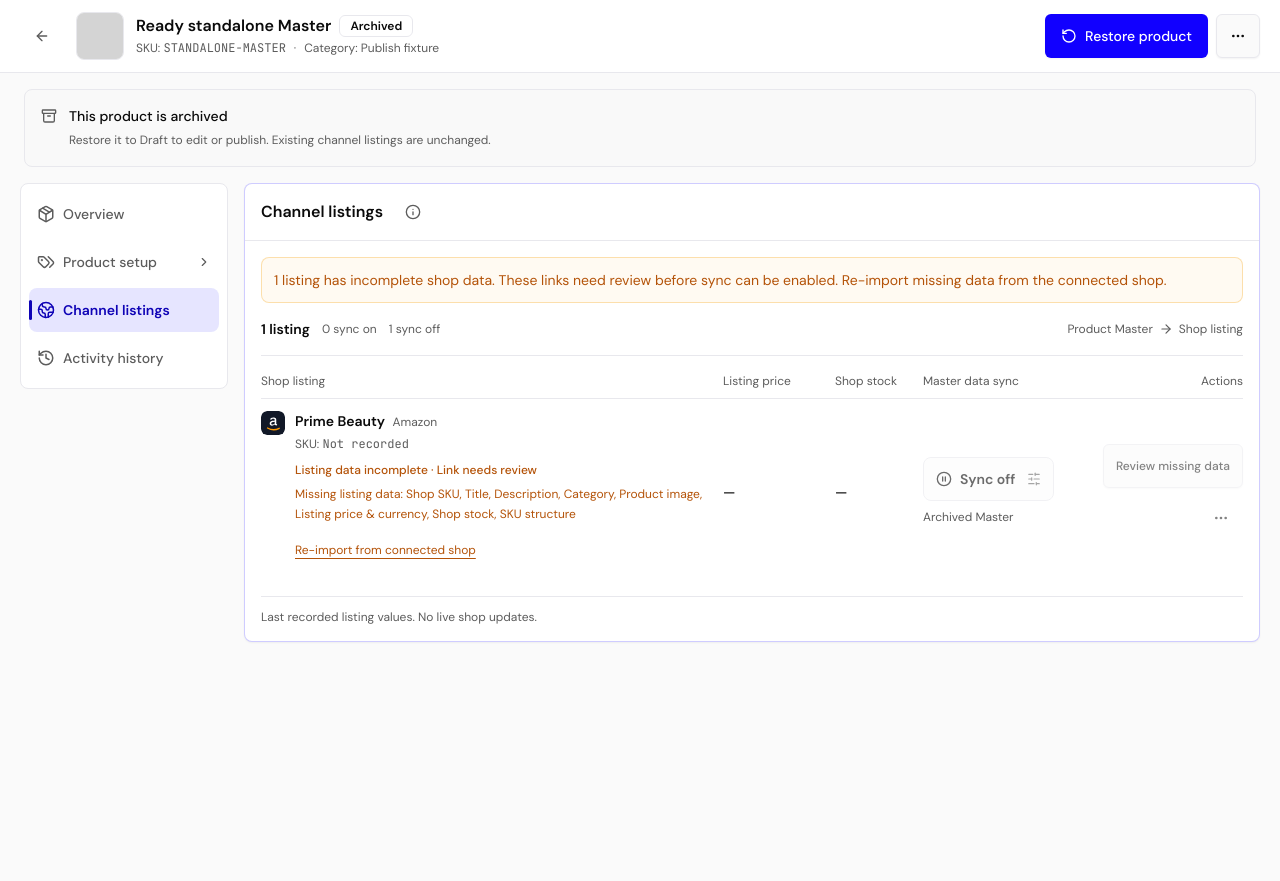
Test: Publishing Product Master without channel listings › allows read-only sales exploration for an archived Master without enabling editing
This screenshot has width=1280, height=881.
Click the button "Overview": point(124, 214) [29,192,219,236]
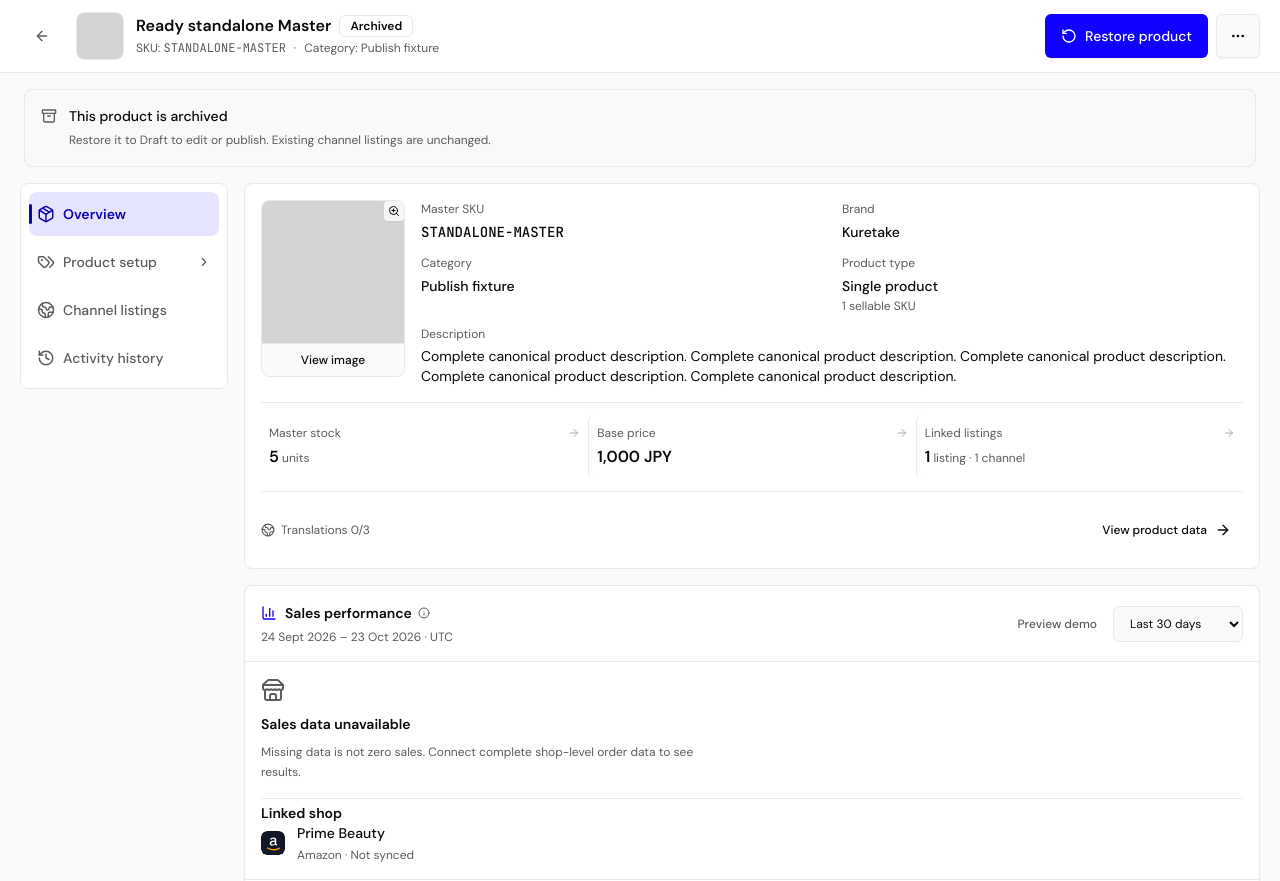
Now the dropdown named "Sales period" is enabled, box [1113,606,1243,642]
Click the button "Preview demo": point(1057, 624) [1006,606,1109,642]
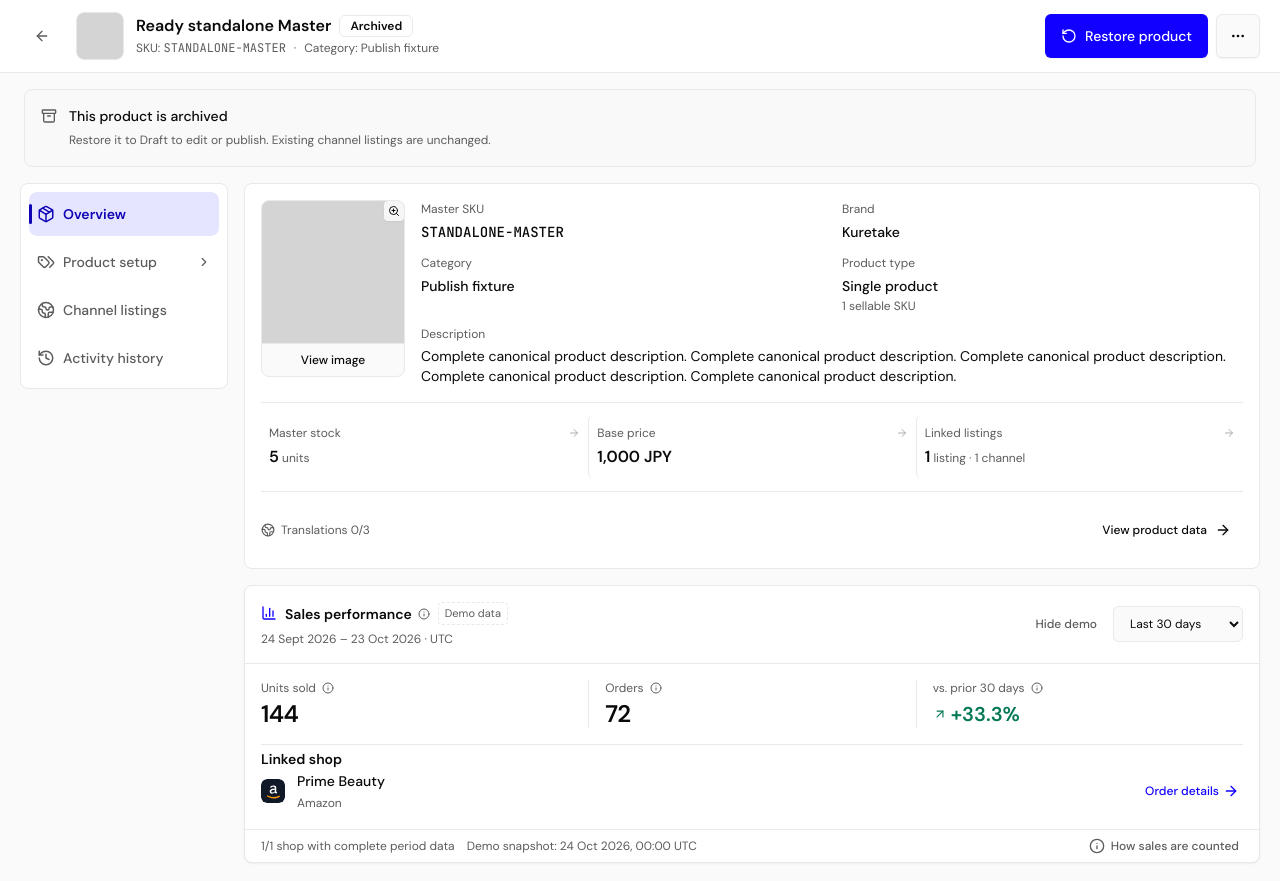
Now the element named "Sales summary" is shown, box [261,680,1243,728]
